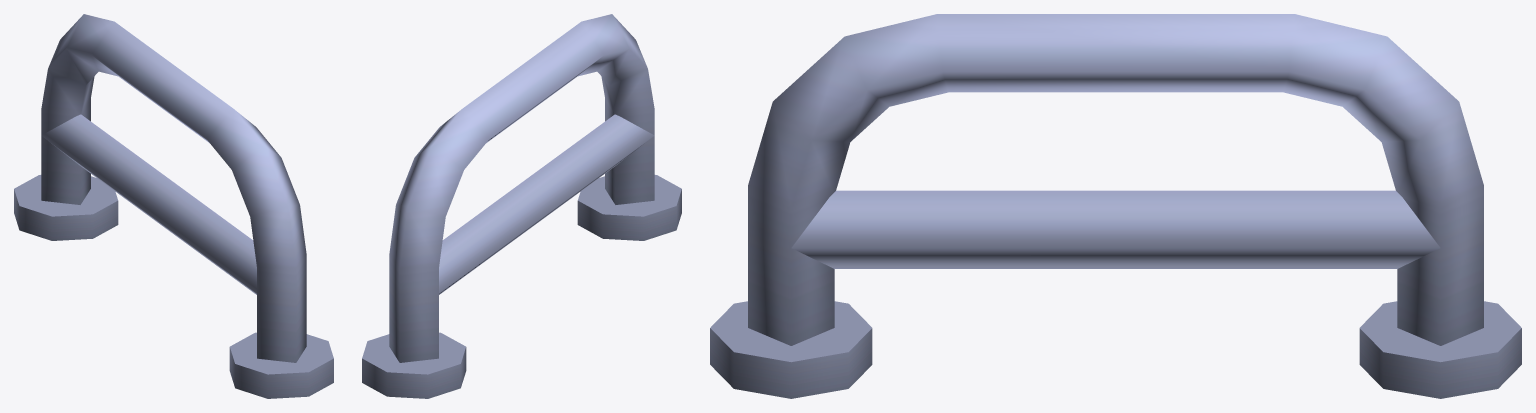
Rendered from construction-fence.glb.
3 renders of one model, left to right at view 1: azimuth 30°, elevation 25°; view 2: azimuth 150°, elevation 25°; view 3: azimuth 270°, elevation 25°, orthographic. The views are drawn at different scales.
Visible parts, largest first — view 1: construction-fence; view 2: construction-fence; view 3: construction-fence.
Boxes of the visible parts, x1,y1,x2,y2 form: construction-fence: [14, 14, 333, 398]; construction-fence: [362, 14, 681, 398]; construction-fence: [710, 14, 1521, 398].
Bounding box in the file's own units: 0.075 × 0.1787 × 0.375.
1 material, 1 textured.
